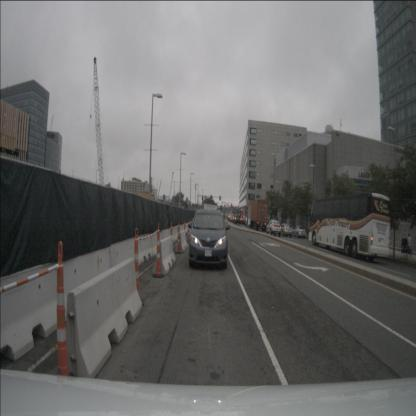human-pedestrian-adult: (406, 233, 412, 258)
movable_object-barrier: (66, 257, 143, 383), (0, 258, 68, 361), (58, 246, 112, 321), (109, 236, 141, 274), (152, 234, 176, 276), (134, 234, 154, 268), (151, 230, 163, 258), (175, 231, 189, 253), (162, 229, 171, 251), (169, 225, 179, 243), (176, 224, 185, 242)
movable_object-trafficcone: (53, 241, 73, 415), (130, 227, 144, 307), (152, 222, 164, 278), (175, 221, 183, 254), (168, 220, 174, 260), (186, 219, 191, 243), (182, 221, 186, 242)
vehicle-bus-rigid: (308, 192, 390, 262)
vehicle-car: (189, 210, 228, 268), (266, 220, 282, 236), (292, 226, 307, 238), (280, 223, 292, 238), (233, 215, 241, 224), (240, 216, 246, 224)
vehicle-truck: (245, 200, 268, 232)
